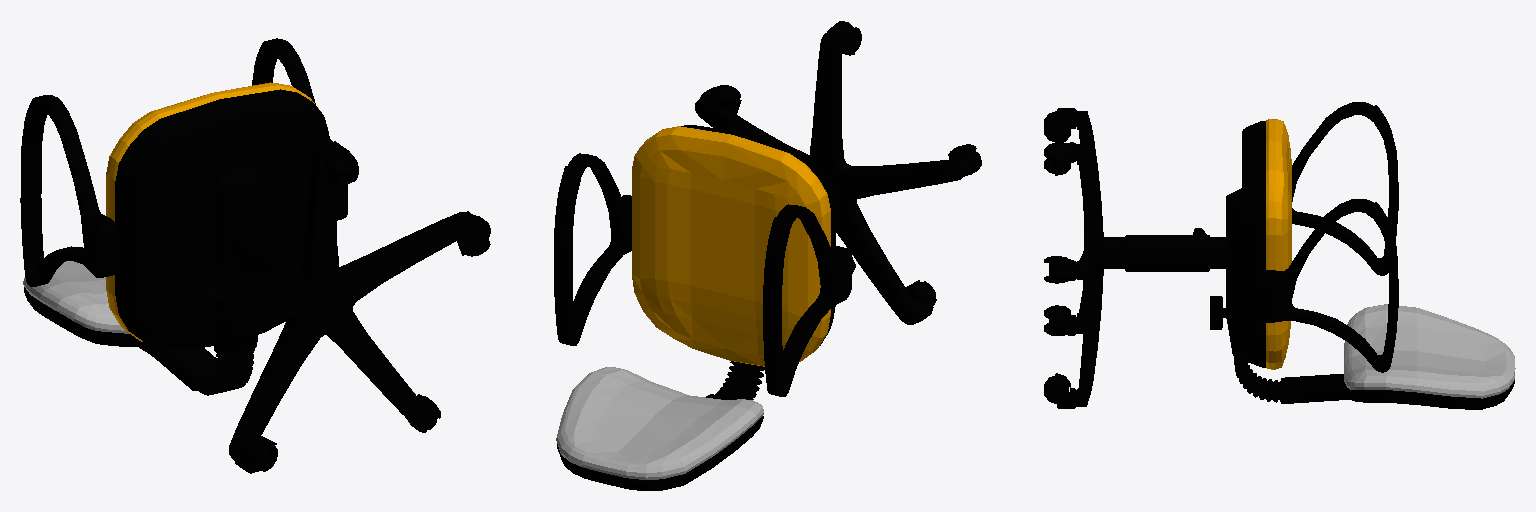
robot.urdf — s__1508:
<robot name="s__1508">


	<link name="0:virtual">
		<visual>
			<origin xyz="0.0 0.0 0.0" rpy="0 0 0"/>
			<geometry>
				<cylinder length="0" radius="0"/>
			</geometry>
		</visual>
	</link>


	<link name="1:static">
		<visual>
			<origin xyz="-0.0 -0.0 -0.0" rpy="0 0 0"/>
			<geometry>
				<mesh filename="../raw_data/s__1508/part_meshes/1.dae" />
			</geometry>
		</visual>
	</link>


	<link name="2:wheel 1">
		<visual>
			<origin xyz="1.6549603499449037e-05 -0.024030689260598592 -0.26853000372656644" rpy="0 0 0"/>
			<geometry>
				<mesh filename="../raw_data/s__1508/part_meshes/2.dae" />
			</geometry>
		</visual>
	</link>


	<link name="3:wheel 2">
		<visual>
			<origin xyz="-0.2531254846982236 -0.024030684938082914 -0.08340679241842791" rpy="0 0 0"/>
			<geometry>
				<mesh filename="../raw_data/s__1508/part_meshes/3.dae" />
			</geometry>
		</visual>
	</link>


	<link name="4:wheel 3">
		<visual>
			<origin xyz="-0.15646899976791168 -0.024030678455602583 0.21617850306209435" rpy="0 0 0"/>
			<geometry>
				<mesh filename="../raw_data/s__1508/part_meshes/4.dae" />
			</geometry>
		</visual>
	</link>


	<link name="5:wheel 4">
		<visual>
			<origin xyz="0.1564103489535026 -0.02403067851358287 0.21620879470425722" rpy="0 0 0"/>
			<geometry>
				<mesh filename="../raw_data/s__1508/part_meshes/5.dae" />
			</geometry>
		</visual>
	</link>


	<link name="6:wheel 5">
		<visual>
			<origin xyz="0.2531245203602135 -0.02403068503110717 -0.08335790578505245" rpy="0 0 0"/>
			<geometry>
				<mesh filename="../raw_data/s__1508/part_meshes/6.dae" />
			</geometry>
		</visual>
	</link>


	<link name="7:backrest 1">
		<visual>
			<origin xyz="-8.501112461090088e-06 -0.7412914931774139 0.23334699869155884" rpy="0 0 0"/>
			<geometry>
				<mesh filename="../raw_data/s__1508/part_meshes/7.dae" />
			</geometry>
		</visual>
	</link>


	<link name="8:seat 1">
		<visual>
			<origin xyz="-1.2970228624120672e-05 -0.4281120002269745 -0.014817997978811498" rpy="0 0 0"/>
			<geometry>
				<mesh filename="../raw_data/s__1508/part_meshes/8.dae" />
			</geometry>
		</visual>
	</link>


	<link name="9:caster 1">
		<visual>
			<origin xyz="2.0709666597386716e-05 -0.04157970007508993 -0.2915453588700644" rpy="0 0 0"/>
			<geometry>
				<mesh filename="../raw_data/s__1508/part_meshes/9.dae" />
			</geometry>
		</visual>
	</link>


	<link name="10:caster 2">
		<visual>
			<origin xyz="-0.26913199088336787 -0.04157970007508993 -0.08864603178010733" rpy="0 0 0"/>
			<geometry>
				<mesh filename="../raw_data/s__1508/part_meshes/10.dae" />
			</geometry>
		</visual>
	</link>


	<link name="11:caster 3">
		<visual>
			<origin xyz="-0.1662378404256559 -0.04157970007508993 0.22970955098294518" rpy="0 0 0"/>
			<geometry>
				<mesh filename="../raw_data/s__1508/part_meshes/11.dae" />
			</geometry>
		</visual>
	</link>


	<link name="12:caster 4">
		<visual>
			<origin xyz="0.16969645905184771 -0.04157970007508993 0.23462198528743686" rpy="0 0 0"/>
			<geometry>
				<mesh filename="../raw_data/s__1508/part_meshes/12.dae" />
			</geometry>
		</visual>
	</link>


	<link name="13:caster 5">
		<visual>
			<origin xyz="0.25663893552291744 -0.04157970007508993 -0.08450657330175097" rpy="0 0 0"/>
			<geometry>
				<mesh filename="../raw_data/s__1508/part_meshes/13.dae" />
			</geometry>
		</visual>
	</link>


	<link name="14:lever 1">
		<visual>
			<origin xyz="0.037004882996964195 -0.36934199929237366 -0.0024251050390433695" rpy="0 0 0"/>
			<geometry>
				<mesh filename="../raw_data/s__1508/part_meshes/14.dae" />
			</geometry>
		</visual>
	</link>


	<link name="15:knob 1">
		<visual>
			<origin xyz="-8.60169529914856e-06 -0.337973490357399 0.12636735290288925" rpy="0 0 0"/>
			<geometry>
				<mesh filename="../raw_data/s__1508/part_meshes/15.dae" />
			</geometry>
		</visual>
	</link>


	<link name="16:gas lift piece 2">
		<visual>
			<origin xyz="-8.54771903711915e-06 -0.23213400319218636 -0.000581345748679768" rpy="0 0 0"/>
			<geometry>
				<mesh filename="../raw_data/s__1508/part_meshes/16.dae" />
			</geometry>
		</visual>
	</link>


	<joint name="0:virtual::1:static" type="fixed">
		<parent link="0:virtual"/>
		<child link="1:static"/>
		<origin xyz="0.0 0.0 0.0" rpy="0 0 0"/>
	</joint>


	<joint name="9:caster 1::2:wheel 1_rotation" type="revolute">
		<parent link="9:caster 1"/>
		<child link="2:wheel 1"/>
		<origin xyz="4.1600630979376795e-06 -0.01754901081449134 -0.02301535514349795" rpy="0 0 0"/>
		<limit lower="-3.141592653589793" upper="3.141592653589793" effort="10" velocity="3"/>
		<axis xyz="0.9999999836203655 0.0 0.00018099521812153224"/>
	</joint>


	<joint name="10:caster 2::3:wheel 2_rotation" type="revolute">
		<parent link="10:caster 2"/>
		<child link="3:wheel 2"/>
		<origin xyz="-0.016006506185144265 -0.017549015137007018 -0.005239239361679415" rpy="0 0 0"/>
		<limit lower="-3.141592653589793" upper="3.141592653589793" effort="10" velocity="3"/>
		<axis xyz="0.30730543735973154 0.0 -0.951610933191262"/>
	</joint>


	<joint name="11:caster 3::4:wheel 3_rotation" type="revolute">
		<parent link="11:caster 3"/>
		<child link="4:wheel 3"/>
		<origin xyz="-0.009768840657744221 -0.01754902161948735 0.01353104792085083" rpy="0 0 0"/>
		<limit lower="-3.141592653589793" upper="3.141592653589793" effort="10" velocity="3"/>
		<axis xyz="-0.8070202168023243 0.0 -0.5905238095727638"/>
	</joint>


	<joint name="12:caster 4::5:wheel 4_rotation" type="revolute">
		<parent link="12:caster 4"/>
		<child link="5:wheel 4"/>
		<origin xyz="0.013286110098345127 -0.01754902156150706 0.01841319058317964" rpy="0 0 0"/>
		<limit lower="-3.141592653589793" upper="3.141592653589793" effort="10" velocity="3"/>
		<axis xyz="0.807231616222354 0.0 -0.5902347988479215"/>
	</joint>


	<joint name="13:caster 5::6:wheel 5_rotation" type="revolute">
		<parent link="13:caster 5"/>
		<child link="6:wheel 5"/>
		<origin xyz="0.0035144151627039544 -0.017549015043982763 -0.0011486675166985233" rpy="0 0 0"/>
		<limit lower="-3.141592653589793" upper="3.141592653589793" effort="10" velocity="3"/>
		<axis xyz="0.3069675191834118 0.0 0.9517199914714316"/>
	</joint>


	<joint name="16:gas lift piece 2::7:backrest 1_translation" type="prismatic">
		<parent link="16:gas lift piece 2"/>
		<child link="7:backrest 1"/>
		<origin xyz="-4.6606576029062374e-08 0.5091574899852276 -0.2339283444402386" rpy="0 0 0"/>
		<limit lower="-0.127640021085739" upper="0.00035997891426086" effort="10" velocity="3"/>
		<axis xyz="0.0 1.0 0.0"/>
	</joint>


	<joint name="16:gas lift piece 2::8:seat 1_translation" type="prismatic">
		<parent link="16:gas lift piece 2"/>
		<child link="8:seat 1"/>
		<origin xyz="4.422509587001522e-06 0.19597799703478813 0.01423665223013173" rpy="0 0 0"/>
		<limit lower="-0.019693002104759216" upper="0.019693002104759216" effort="10" velocity="3"/>
		<axis xyz="0.0 1.0 0.0"/>
	</joint>


	<joint name="0:virtual::9:caster 1_rotation" type="revolute">
		<parent link="0:virtual"/>
		<child link="9:caster 1"/>
		<origin xyz="-2.0709666597386716e-05 0.04157970007508993 0.2915453588700644" rpy="0 0 0"/>
		<limit lower="-3.141592653589793" upper="3.141592653589793" effort="10" velocity="3"/>
		<axis xyz="0.0 1.0 0.0"/>
	</joint>


	<joint name="0:virtual::10:caster 2_rotation" type="revolute">
		<parent link="0:virtual"/>
		<child link="10:caster 2"/>
		<origin xyz="0.26913199088336787 0.04157970007508993 0.08864603178010733" rpy="0 0 0"/>
		<limit lower="-3.141592653589793" upper="3.141592653589793" effort="10" velocity="3"/>
		<axis xyz="0.0 1.0 0.0"/>
	</joint>


	<joint name="0:virtual::11:caster 3_rotation" type="revolute">
		<parent link="0:virtual"/>
		<child link="11:caster 3"/>
		<origin xyz="0.1662378404256559 0.04157970007508993 -0.22970955098294518" rpy="0 0 0"/>
		<limit lower="-3.141592653589793" upper="3.141592653589793" effort="10" velocity="3"/>
		<axis xyz="0.0 1.0 0.0"/>
	</joint>


	<joint name="0:virtual::12:caster 4_rotation" type="revolute">
		<parent link="0:virtual"/>
		<child link="12:caster 4"/>
		<origin xyz="-0.16969645905184771 0.04157970007508993 -0.23462198528743686" rpy="0 0 0"/>
		<limit lower="-3.141592653589793" upper="3.141592653589793" effort="10" velocity="3"/>
		<axis xyz="0.0 1.0 0.0"/>
	</joint>


	<joint name="0:virtual::13:caster 5_rotation" type="revolute">
		<parent link="0:virtual"/>
		<child link="13:caster 5"/>
		<origin xyz="-0.25663893552291744 0.04157970007508993 0.08450657330175097" rpy="0 0 0"/>
		<limit lower="-3.141592653589793" upper="3.141592653589793" effort="10" velocity="3"/>
		<axis xyz="0.0 1.0 0.0"/>
	</joint>


	<joint name="16:gas lift piece 2::14:lever 1_rotation" type="revolute">
		<parent link="16:gas lift piece 2"/>
		<child link="14:lever 1"/>
		<origin xyz="-0.037013430716001314 0.1372079961001873 0.0018437592903636016" rpy="0 0 0"/>
		<limit lower="-0.20420352248333656" upper="0.18849555921538758" effort="10" velocity="3"/>
		<axis xyz="0.0 0.0 1.0"/>
	</joint>


	<joint name="16:gas lift piece 2::15:knob 1_rotation" type="revolute">
		<parent link="16:gas lift piece 2"/>
		<child link="15:knob 1"/>
		<origin xyz="5.3976262029409305e-08 0.10583948716521263 -0.12694869865156902" rpy="0 0 0"/>
		<limit lower="-3.141592653589793" upper="3.141592653589793" effort="10" velocity="3"/>
		<axis xyz="0.0 1.0 0.0"/>
	</joint>


	<joint name="0:virtual::16:gas lift piece 2_rotation" type="revolute">
		<parent link="0:virtual"/>
		<child link="16:gas lift piece 2"/>
		<origin xyz="8.54771903711915e-06 0.23213400319218636 0.000581345748679768" rpy="0 0 0"/>
		<limit lower="-3.141592653589793" upper="3.141592653589793" effort="10" velocity="3"/>
		<axis xyz="0.0 1.0 0.0"/>
	</joint>


</robot>

--- Facts derived from the render (not from the file) ---
Views: 3 orthographic renders of the robot side by side, from view 1: azimuth 30°, elevation 25°; view 2: azimuth 150°, elevation 25°; view 3: azimuth 270°, elevation 25°.
Model s__1508 with 17 links and 16 joints (13 revolute, 2 prismatic, 1 fixed), rooted at 0:virtual, posed all joints at 0.
Visible links, largest first — view 1: 8:seat 1, 1:static, 16:gas lift piece 2, 7:backrest 1, 15:knob 1, 5:wheel 4, 3:wheel 2, 2:wheel 1, 13:caster 5; view 2: 8:seat 1, 7:backrest 1, 1:static, 16:gas lift piece 2; view 3: 8:seat 1, 7:backrest 1, 16:gas lift piece 2, 1:static, 2:wheel 1, 4:wheel 3.
Boxes of the visible links, x1,y1,x2,y2 form: 8:seat 1: [20, 38, 347, 348]; 1:static: [176, 139, 482, 463]; 16:gas lift piece 2: [138, 166, 302, 395]; 7:backrest 1: [23, 261, 149, 346]; 15:knob 1: [229, 307, 267, 337]; 5:wheel 4: [241, 436, 277, 471]; 3:wheel 2: [456, 220, 490, 256]; 2:wheel 1: [323, 153, 358, 185]; 13:caster 5: [180, 284, 226, 313]; 8:seat 1: [554, 125, 851, 396]; 7:backrest 1: [556, 367, 763, 490]; 1:static: [695, 30, 969, 324]; 16:gas lift piece 2: [706, 178, 835, 399]; 8:seat 1: [1242, 102, 1398, 372]; 7:backrest 1: [1344, 304, 1515, 409]; 16:gas lift piece 2: [1104, 188, 1350, 403]; 1:static: [1049, 111, 1103, 406]; 2:wheel 1: [1044, 111, 1068, 142]; 4:wheel 3: [1044, 375, 1068, 403].
Bounding box of the posed robot: 0.58 × 0.9063 × 0.61 m (x, y, z).
Meshes: 16 distinct files referenced, 16 mesh visuals loaded (16 Collada DAE).